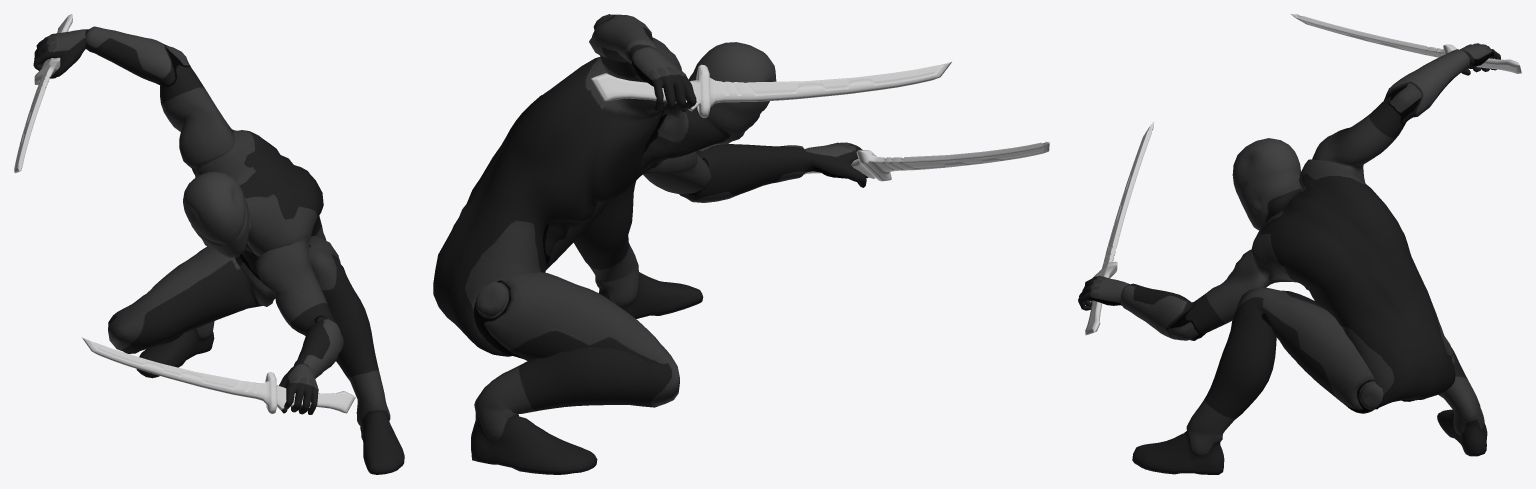
The picture shows the model from 3 angles, left to right: view 1: azimuth 30°, elevation 25°; view 2: azimuth 150°, elevation 25°; view 3: azimuth 270°, elevation 25°; orthographic projection. The views are drawn at different scales.
Visible parts, largest first — view 1: Cyborg_Ninja_Killer, Sword_l, Sword_l001; view 2: Cyborg_Ninja_Killer, Sword_l001, Sword_l; view 3: Cyborg_Ninja_Killer, Sword_l, Sword_l001.
Boxes of the visible parts, bbox=[...] form: Cyborg_Ninja_Killer: bbox=[33, 26, 404, 474]; Sword_l: bbox=[82, 337, 355, 413]; Sword_l001: bbox=[14, 14, 72, 173]; Cyborg_Ninja_Killer: bbox=[433, 14, 868, 474]; Sword_l001: bbox=[591, 61, 951, 117]; Sword_l: bbox=[803, 141, 1049, 181]; Cyborg_Ninja_Killer: bbox=[1078, 43, 1500, 474]; Sword_l: bbox=[1085, 121, 1154, 335]; Sword_l001: bbox=[1290, 14, 1521, 73].
Bounding box in the file's own units: 124 × 114 × 132.
